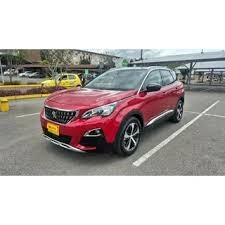car: (39, 66, 186, 158), (40, 68, 185, 156)
